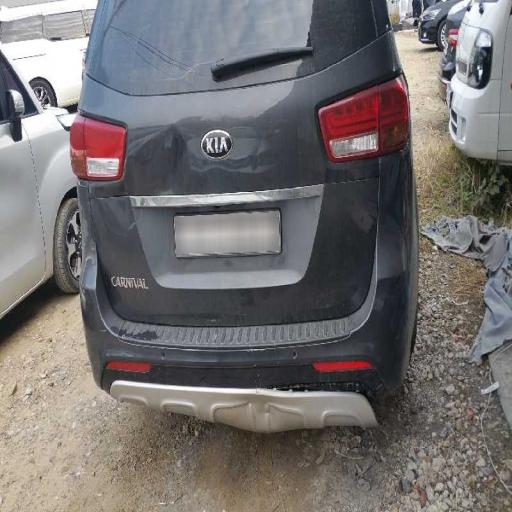dent: (106, 94, 330, 248)
